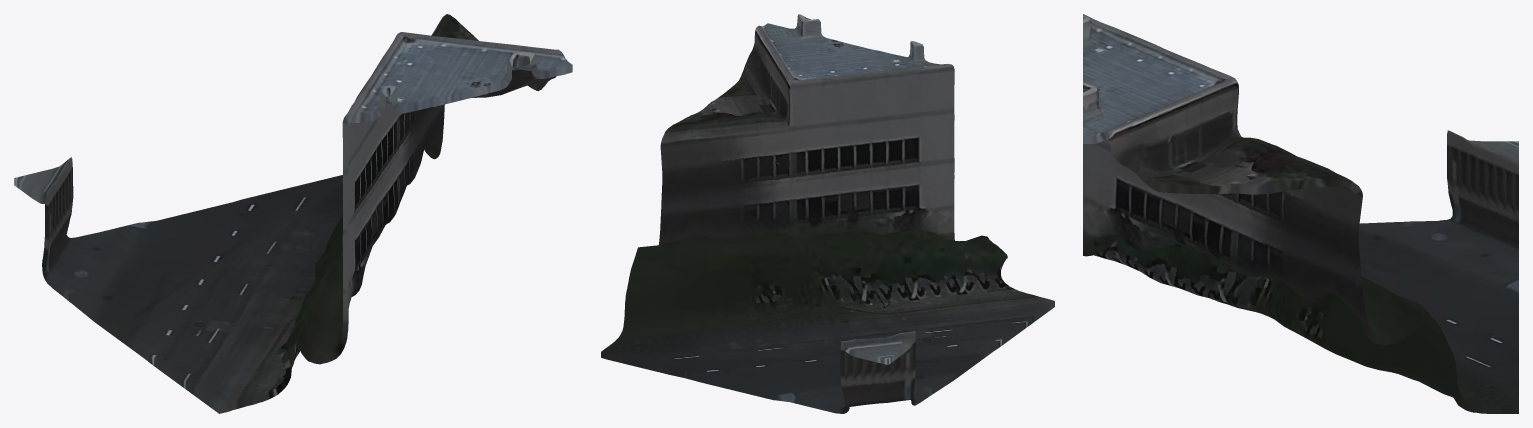
File: z20-167784-405231-h0-yup-uvflip-v3-world.glb
3 renders of one model, left to right at view 1: azimuth 30°, elevation 25°; view 2: azimuth 150°, elevation 25°; view 3: azimuth 270°, elevation 25°, orthographic. The views are drawn at different scales.
Bounding box in the file's own units: 30.16 × 23.24 × 30.32.
1 material, 1 textured.
